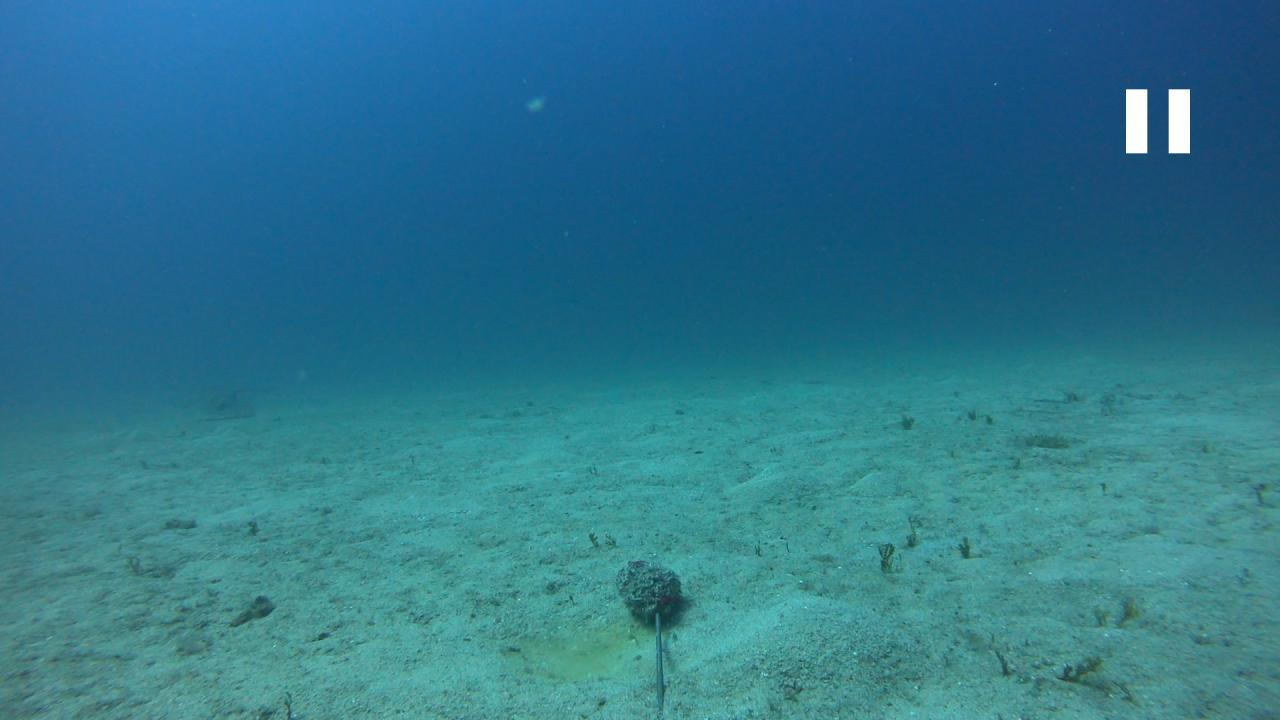dasyatis: (180, 383, 275, 417)
